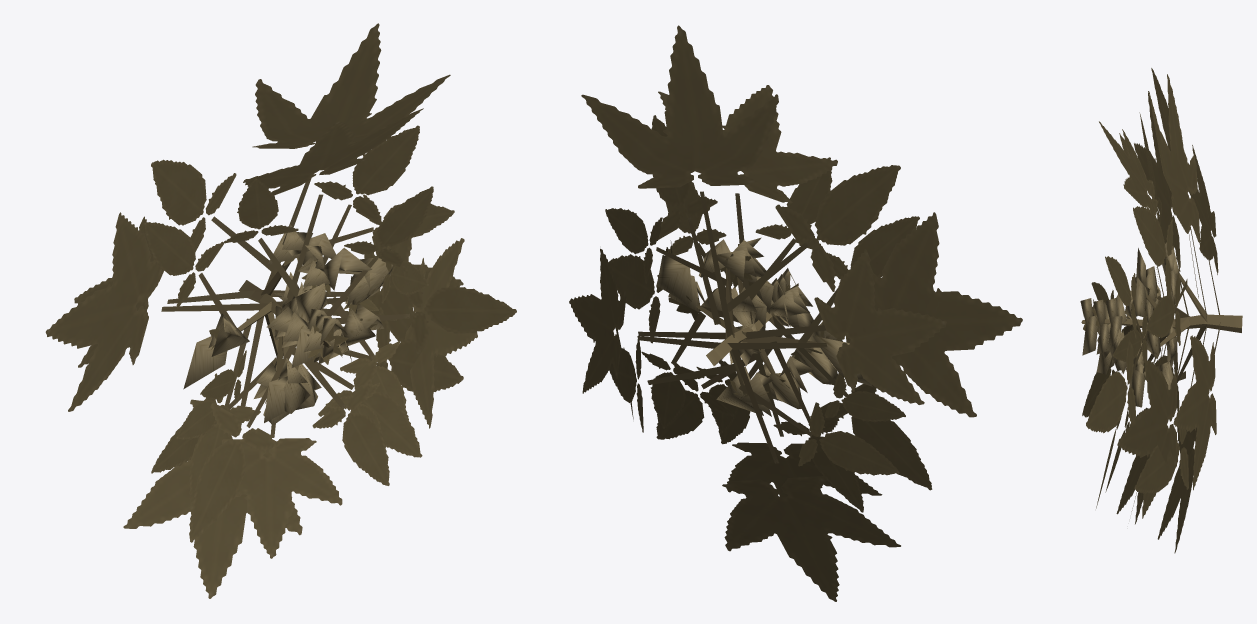
File: p_male_auto_flowering_c4_cards.obj
3 renders of one model, left to right at view 1: azimuth 30°, elevation 25°; view 2: azimuth 150°, elevation 25°; view 3: azimuth 270°, elevation 25°, orthographic. The views are drawn at different scales.
Size of the model in its own units: 1.12 by 1.32 by 0.329.
1 material, 1 textured.
